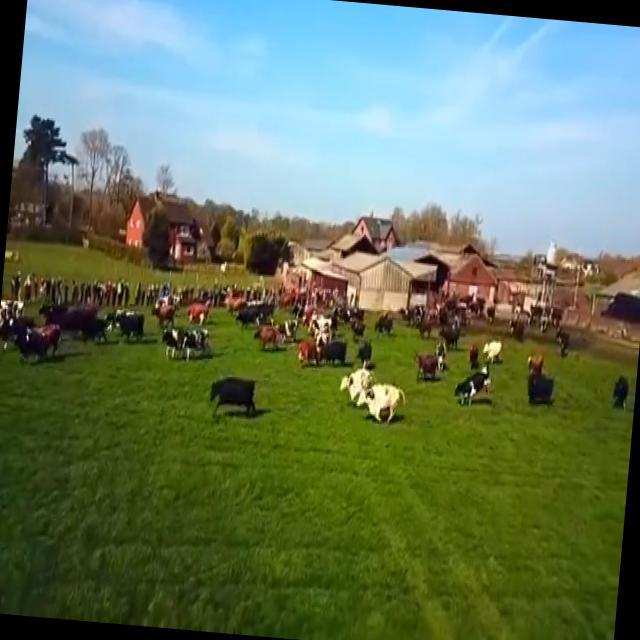COW: (0, 285, 144, 358), (222, 287, 347, 366), (341, 339, 405, 421), (152, 284, 218, 359), (454, 339, 500, 404), (209, 376, 255, 413), (415, 339, 447, 380), (527, 354, 553, 403), (613, 377, 628, 406)
